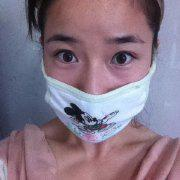WRONG: (43, 22, 152, 131)
